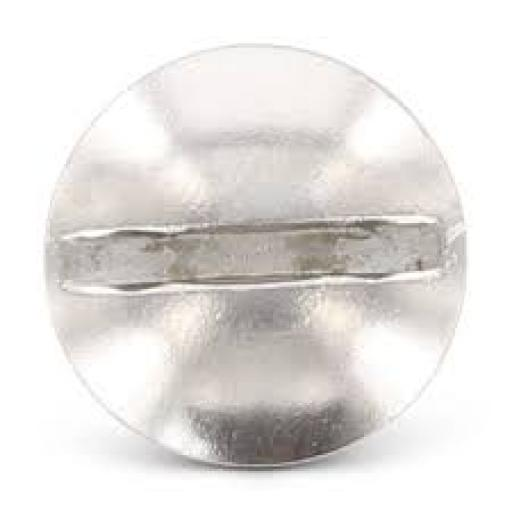Slotted: (46, 40, 472, 469)
